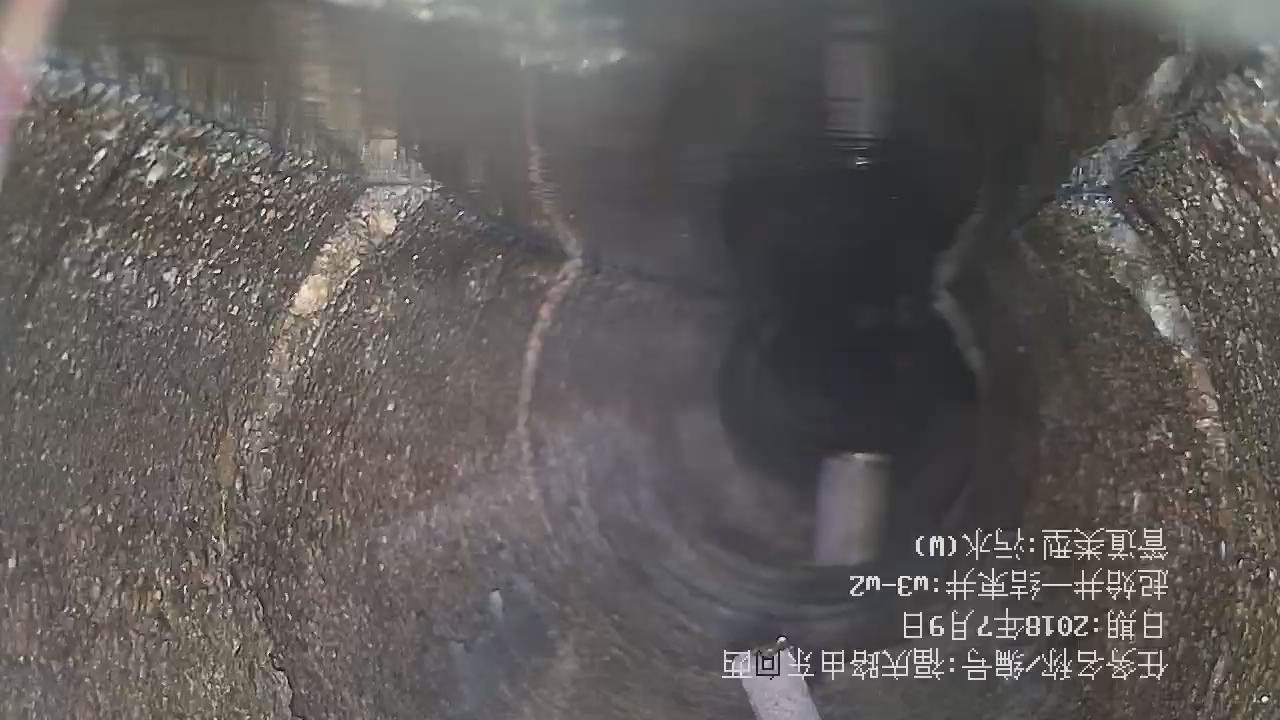CKTJ: (1071, 197, 1224, 558), (269, 186, 431, 392)
ZGAJ: (815, 453, 888, 566), (727, 643, 821, 720)
